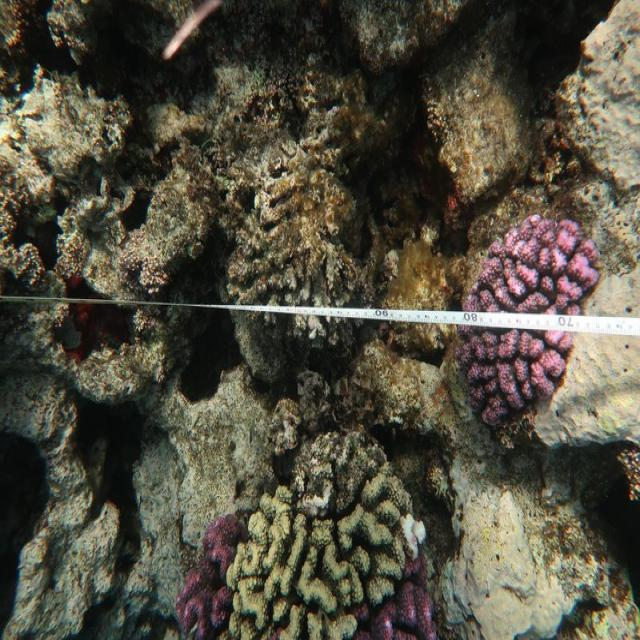Healthy Coral: (176, 425, 458, 640), (445, 204, 614, 433)
